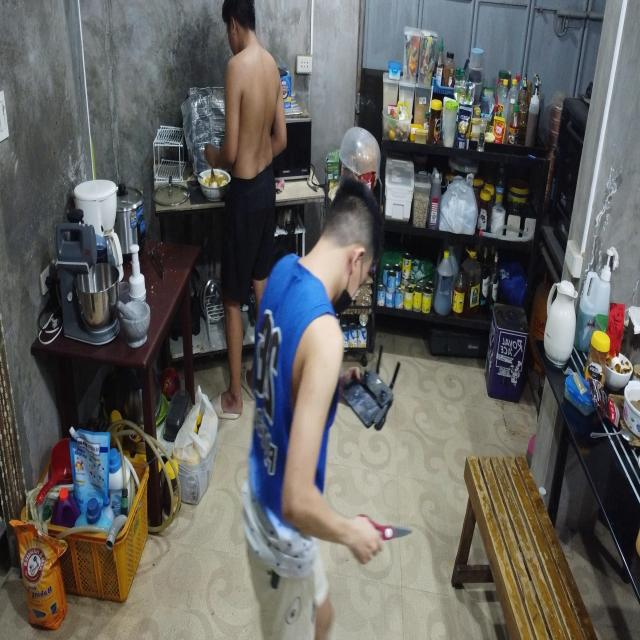scissor: (356, 514, 413, 541)
